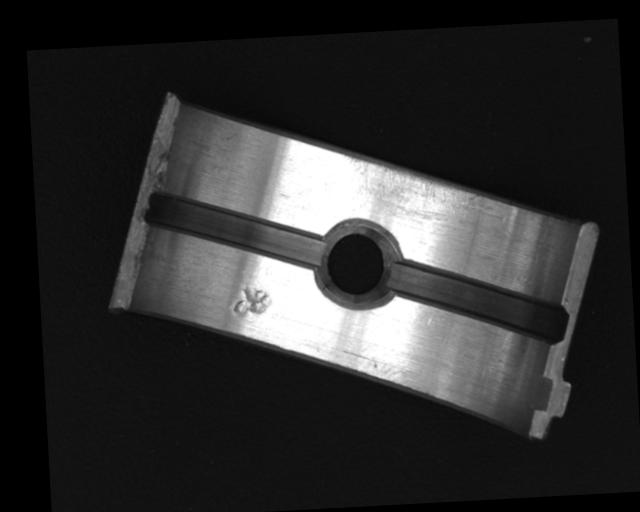bruise: (227, 282, 273, 319)
gap: (382, 251, 570, 353), (142, 184, 323, 276)
hole: (312, 218, 402, 309)
scratch: (335, 143, 497, 223)
